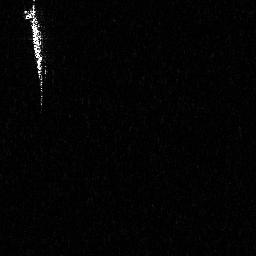ship: (21, 1, 50, 111)
